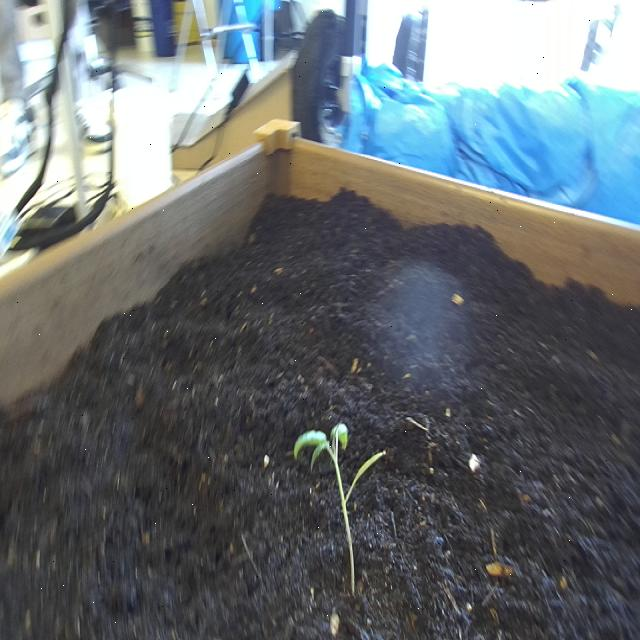Healthy: (291, 420, 388, 603)
